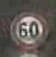limite 60: (8, 9, 49, 50)
